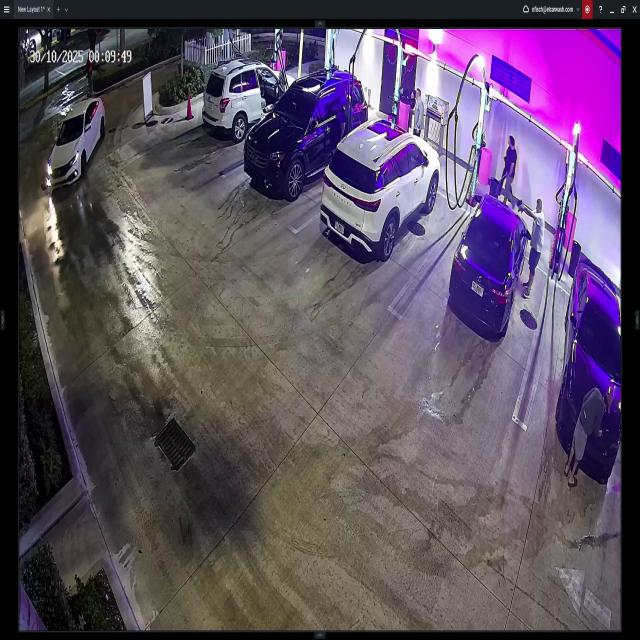Car: (318, 122, 441, 256), (244, 64, 366, 198), (565, 252, 619, 478), (450, 192, 529, 340), (206, 58, 294, 140), (43, 95, 105, 188)
